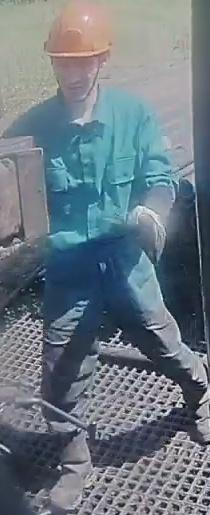gloves: (125, 198, 167, 272)
helmet: (38, 2, 115, 61)
vest: (23, 86, 145, 273)
